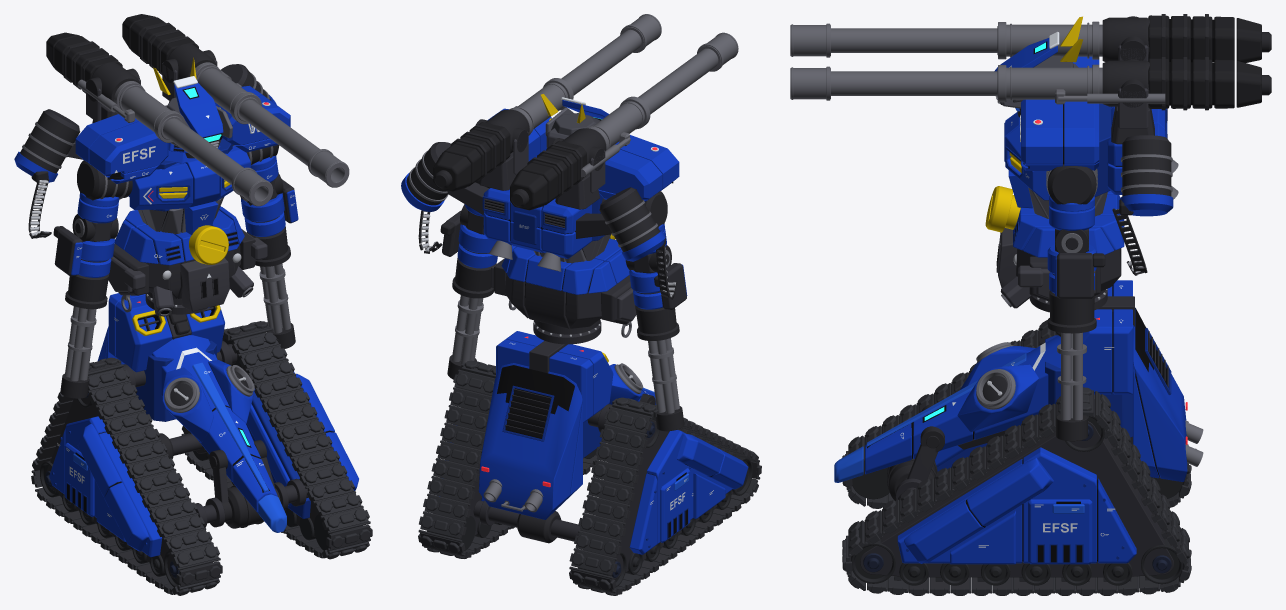
The model's file is kw_guntank.glb.
3 views of the same model, side by side, from view 1: azimuth 30°, elevation 25°; view 2: azimuth 150°, elevation 25°; view 3: azimuth 270°, elevation 25° (orthographic). The views are drawn at different scales.
Visible parts, largest first — view 1: Track_R_Links, Track_L_Links, Track_L_Cleats, Track_R_Cleats, Nose, SArmor_R.001, Belt, Pod_R_Ridge, Pedestal_R, Pod_R_Armor, Axles, Chest_R (+62 smaller); view 2: Hull_Rear, Track_R_Links, Track_L_Links, Track_R_Cleats, Track_L_Cleats, Belt, Backpack, SArmor_R.001, Pod_R_Armor, Pelvis, Cannon_L_Cover, Pedestal_R (+57 smaller); view 3: Track_L_Links, Pod_L_Frame, Pod_L_Armor, Track_L_Cleats, Pod_L_Ridge, SArmor_L.001, Hull_Rear, Nose, Cannon_L_Cover, Cannon_R_Cover, Cannon_L_Barrel, Cannon_R_Barrel (+47 smaller).
Boxes of the visible parts, x1,y1,x2,y2 form: Track_R_Links: (31,358,222,594); Track_L_Links: (181,322,372,558); Track_L_Cleats: (193,321,370,559); Track_R_Cleats: (35,357,220,595); Nose: (152,335,277,512); SArmor_R.001: (75,114,168,183); Belt: (114,206,244,265); Pod_R_Ridge: (77,424,148,551); Pedestal_R: (108,293,172,372); Pod_R_Armor: (49,416,162,557); Axles: (116,340,308,527); Chest_R: (129,163,192,209); Hull_Rear: (478,363,582,519); Track_R_Links: (569,398,761,594); Track_L_Links: (418,362,605,557); Track_R_Cleats: (571,397,755,595); Track_L_Cleats: (420,360,591,558); Belt: (501,238,629,294); Backpack: (483,188,591,258); SArmor_R.001: (598,135,679,201); Pod_R_Armor: (629,430,732,554); Pelvis: (505,273,601,328); Cannon_L_Cover: (433,122,510,191); Pedestal_R: (549,344,613,422); Track_L_Links: (845,388,1188,595); Pod_L_Frame: (860,421,1173,577); Pod_L_Armor: (897,447,1136,563); Track_L_Cleats: (842,387,1191,595); Pod_L_Ridge: (904,458,1053,563); SArmor_L.001: (1021,99,1099,170); Hull_Rear: (1133,308,1187,481); Nose: (865,335,1060,474); Cannon_L_Cover: (1148,58,1261,108); Cannon_R_Cover: (1148,15,1261,62); Cannon_L_Barrel: (831,71,997,95); Cannon_R_Barrel: (831,28,997,52).
Size of the model in its own units: 9.12 by 15.2 by 12.86.
